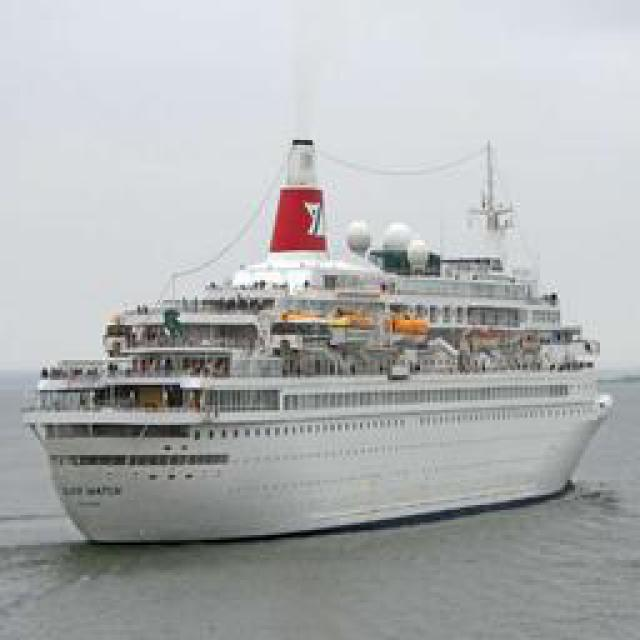Ship: (42, 137, 602, 550)
